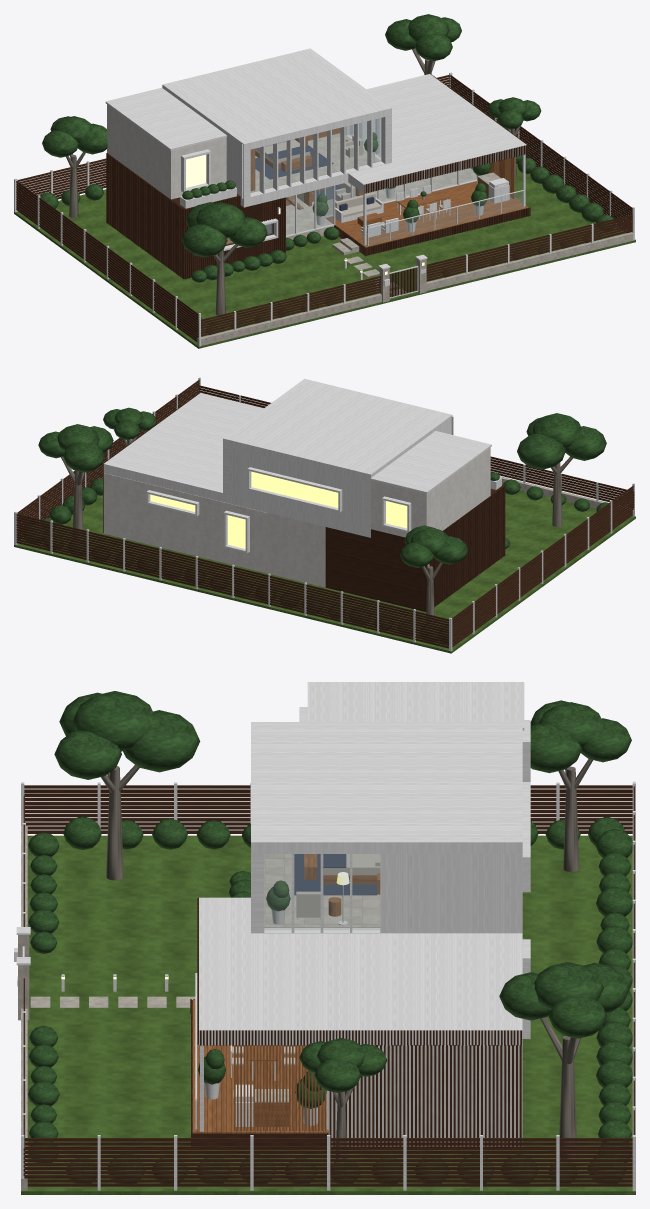
Rendered from townhouse-115.glb.
3 renders of one model, top to bottom at view 1: azimuth 30°, elevation 25°; view 2: azimuth 150°, elevation 25°; view 3: azimuth 270°, elevation 25°, orthographic. The views are drawn at different scales.
Parts seen in each view (by area): view 1: site_lawn, fence_fence_slats, upper_floor_black_box, terrace_roof_slab, landscape_tree_canopy, ground_floor_timber_cladding, landscape_shrubs, upper_floor_white_volume, upper_floor_white_volume_cap, terrace_deck_boards, fence_fence_plinth, upper_floor_glazing (+24 smaller); view 2: fence_fence_slats, upper_floor_black_box, site_lawn, ground_floor_back_wall, landscape_tree_canopy, terrace_roof_slab, ground_floor_timber_wing, upper_floor_white_volume, ground_floor_timber_cladding, upper_floor_white_volume_cap, landscape_shrubs, fence_fence_posts (+6 smaller); view 3: site_lawn, upper_floor_black_box, fence_fence_slats, terrace_roof_slab, landscape_tree_canopy, landscape_shrubs, ground_floor_timber_cladding, ground_floor_side_wall, upper_floor_white_volume_cap, upper_floor_glazing, landscape_tree_trunks, terrace_timber_screen (+13 smaller).
Boxes of the visible parts, x1,y1,x2,y2 form: site_lawn: (14,164,635,348); fence_fence_slats: (16,75,632,341); upper_floor_black_box: (162,48,391,207); terrace_roof_slab: (348,74,526,193); landscape_tree_canopy: (42,14,541,257); ground_floor_timber_cladding: (106,153,285,279); landscape_shrubs: (40,155,614,335); upper_floor_white_volume: (107,104,226,199); upper_floor_white_volume_cap: (105,87,226,150); terrace_deck_boards: (326,181,528,247); fence_fence_plinth: (197,232,633,345); upper_floor_glazing: (251,118,381,192); fence_fence_slats: (16,380,634,648); upper_floor_black_box: (223,378,452,537); site_lawn: (14,490,635,653); ground_floor_back_wall: (107,474,325,587); landscape_tree_canopy: (38,407,606,567); terrace_roof_slab: (103,393,263,501); ground_floor_timber_wing: (325,485,503,611); upper_floor_white_volume: (371,447,490,537); ground_floor_timber_cladding: (103,472,505,606); upper_floor_white_volume_cap: (370,431,491,493); landscape_shrubs: (23,478,608,643); fence_fence_posts: (14,377,634,651); site_lawn: (21,835,635,1194); upper_floor_black_box: (251,722,522,933); fence_fence_slats: (23,785,634,1186); terrace_roof_slab: (199,897,522,1044); landscape_tree_canopy: (54,691,631,1093); landscape_shrubs: (27,816,632,1183); ground_floor_timber_cladding: (329,1045,521,1146); ground_floor_side_wall: (328,1045,522,1146); upper_floor_white_volume_cap: (307,682,524,730); upper_floor_glazing: (264,854,379,929); landscape_tree_trunks: (101,759,592,1158); terrace_timber_screen: (234,1045,325,1130).
Size of the model in its own units: 26 by 7.17 by 19.22.
13 materials, 11 textured.
